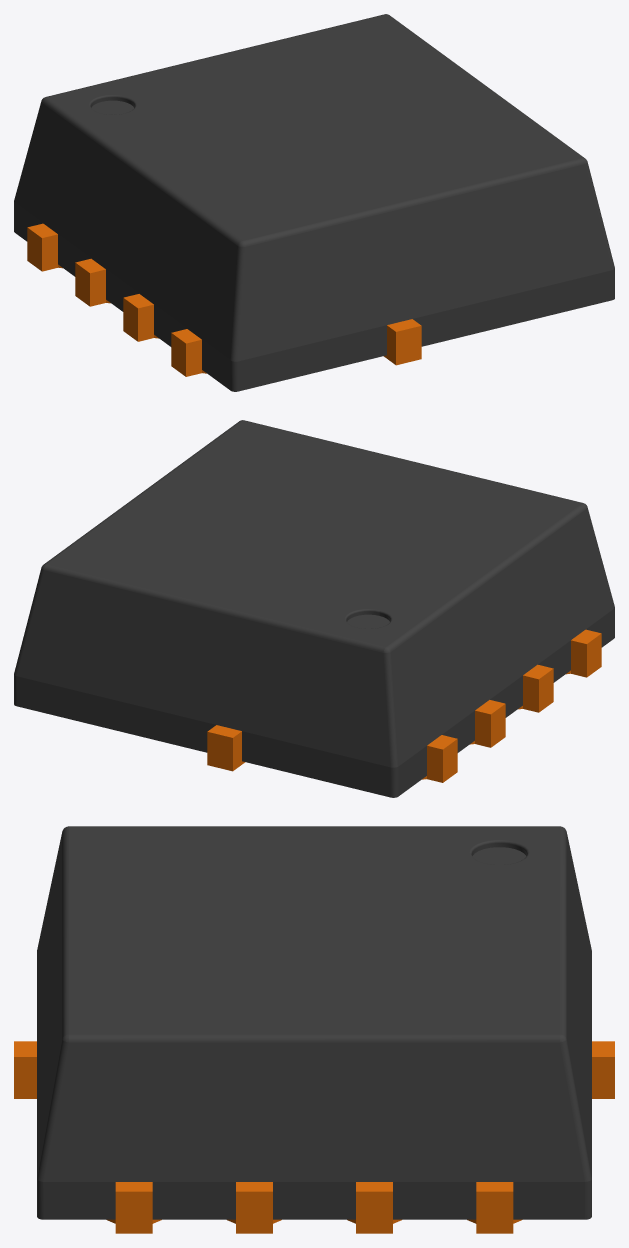
The picture shows the model from 3 angles, top to bottom: view 1: azimuth 30°, elevation 25°; view 2: azimuth 150°, elevation 25°; view 3: azimuth 270°, elevation 25°; orthographic projection. The views are drawn at different scales.
Parts seen in each view (by area): view 1: PPAK1212-SINGLE; view 2: PPAK1212-SINGLE; view 3: PPAK1212-SINGLE.
Part boxes in pixels (x1=…): PPAK1212-SINGLE: x1=14, y1=14, x2=614, y2=391; PPAK1212-SINGLE: x1=14, y1=420, x2=614, y2=797; PPAK1212-SINGLE: x1=14, y1=826, x2=614, y2=1233.
Size of the model in its own units: 3.3 by 1.07 by 3.3.
